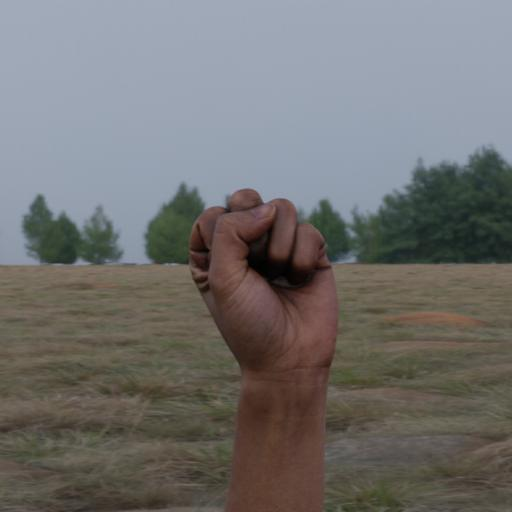S: (184, 175, 356, 391)
